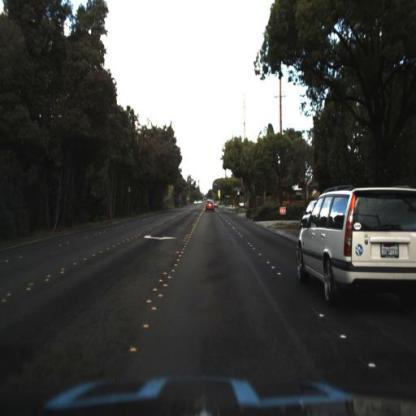car: (299, 174, 416, 310), (204, 194, 216, 215), (235, 198, 250, 213)
